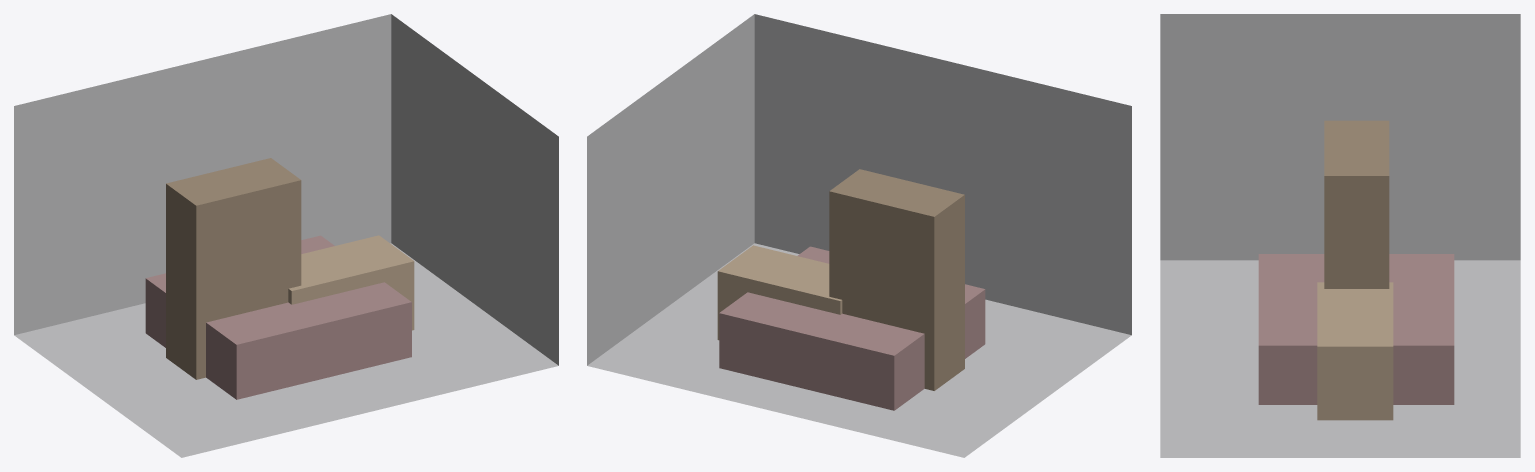
File: current_layout.glb
The picture shows the model from 3 angles, left to right: view 1: azimuth 30°, elevation 25°; view 2: azimuth 150°, elevation 25°; view 3: azimuth 270°, elevation 25°; orthographic projection. The views are drawn at different scales.
Parts seen in each view (by area): view 1: room, wardrobe, bed, desk; view 2: room, wardrobe, bed, desk; view 3: room, bed, wardrobe, desk.
Part boxes in pixels (x1,y1,x2,y2): room: (14,14,558,457); wardrobe: (166,158,301,379); bed: (145,235,411,399); desk: (288,235,414,330); room: (587,14,1131,457); wardrobe: (829,169,964,390); bed: (719,246,985,410); desk: (717,245,842,340); room: (1160,14,1520,457); bed: (1258,254,1454,404); wardrobe: (1324,120,1389,288); desk: (1317,282,1393,420).
Bounding box in the file's own units: 4.31 × 2.5 × 3.31.
